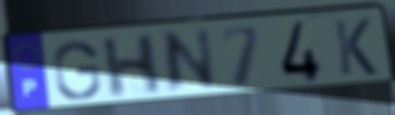4: (278, 19, 324, 85)
7: (220, 23, 262, 90)
G: (50, 39, 103, 102)
H: (99, 31, 163, 101)
K: (331, 17, 379, 78)
N: (161, 26, 219, 97)
